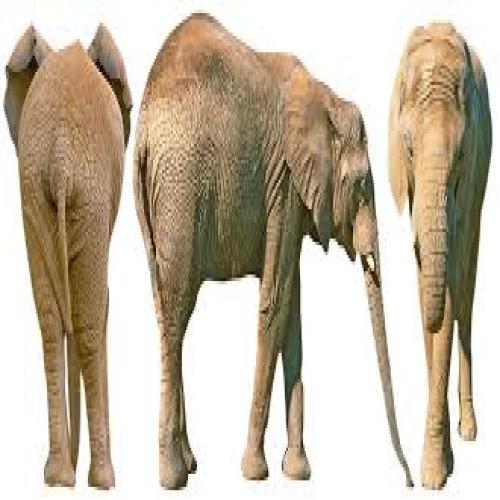asian_elephant-endangered: (131, 10, 414, 489), (8, 22, 132, 492), (384, 22, 490, 492)
